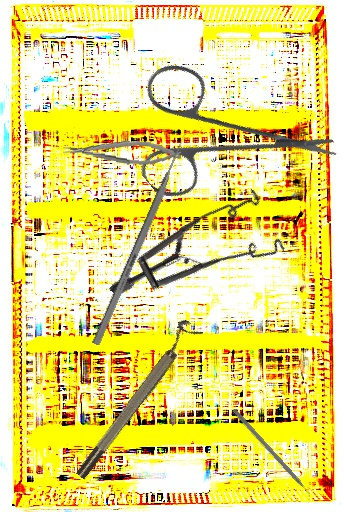Chopper: (227, 408, 316, 505)
Fixation Ring: (66, 317, 204, 482)
Iris Scissors: (96, 12, 342, 258)
Needle Holder: (62, 133, 182, 170)
Pusher: (91, 130, 191, 347)
Speculum: (108, 157, 302, 360)
